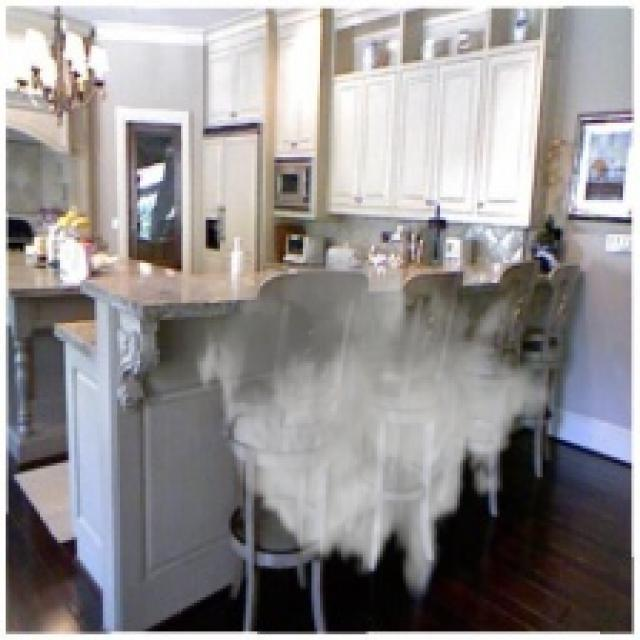Smoke: (192, 226, 554, 603)
